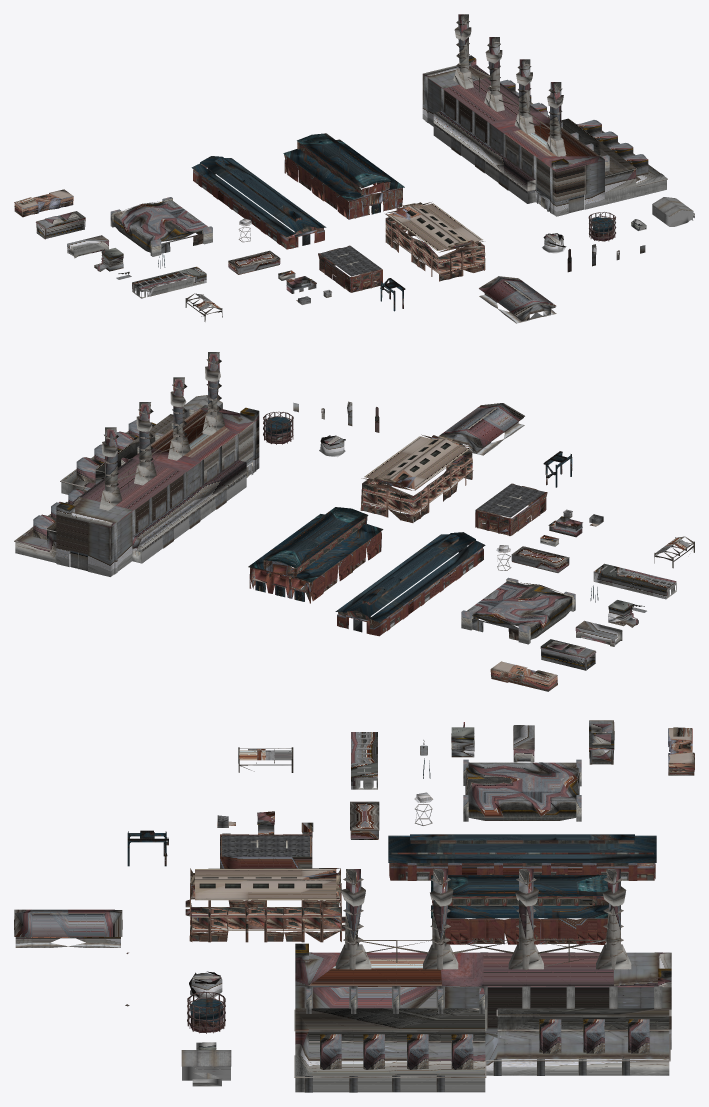
The model's file is industrial_buildings.glb.
3 renders of one model, top to bottom at view 1: azimuth 30°, elevation 25°; view 2: azimuth 150°, elevation 25°; view 3: azimuth 270°, elevation 25°, orthographic. The views are drawn at different scales.
Size of the model in its own units: 427 by 89.3 by 345.
8 materials, 8 textured.
